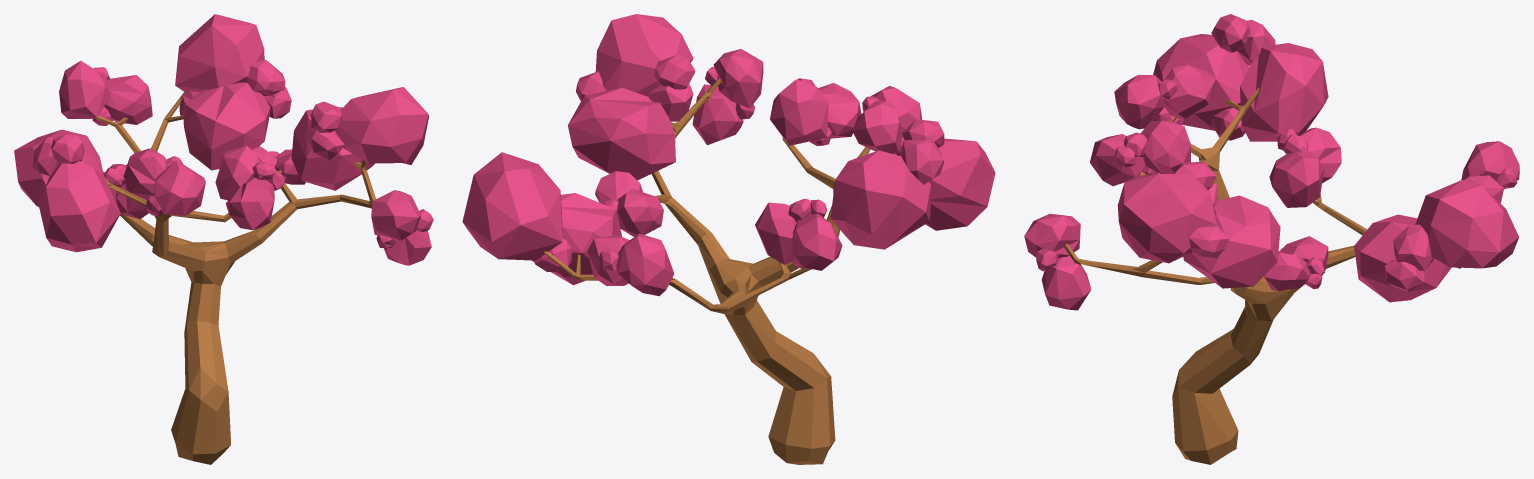
The model's file is cherry tree.fbx.
The picture shows the model from 3 angles, left to right: view 1: azimuth 30°, elevation 25°; view 2: azimuth 150°, elevation 25°; view 3: azimuth 270°, elevation 25°; orthographic projection. The views are drawn at different scales.
Parts seen in each view (by area): view 1: Icosphere.042; view 2: Icosphere.042; view 3: Icosphere.042.
Boxes of the visible parts, bbox=[...] form: Icosphere.042: bbox=[14, 14, 433, 464]; Icosphere.042: bbox=[462, 14, 995, 464]; Icosphere.042: bbox=[1024, 14, 1519, 464].
Bounding box in the file's own units: 14.77 × 13.31 × 15.86.
